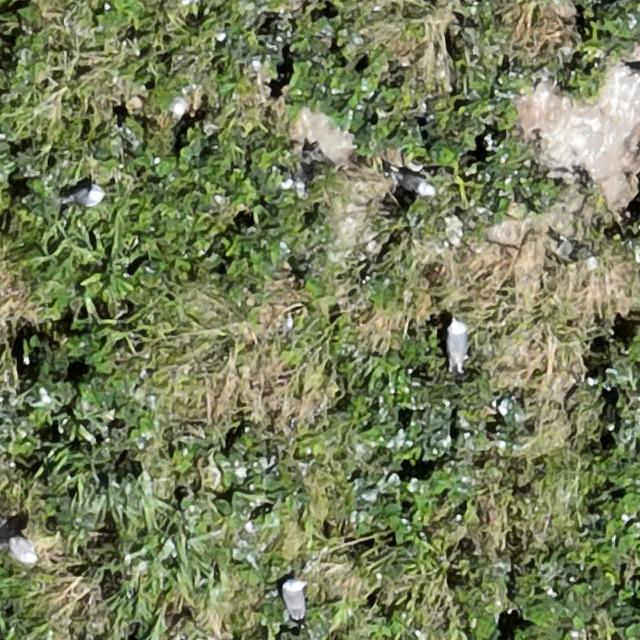umineko: (8, 537, 36, 564), (448, 322, 467, 360), (68, 187, 103, 207), (396, 173, 429, 194), (284, 584, 302, 618)
